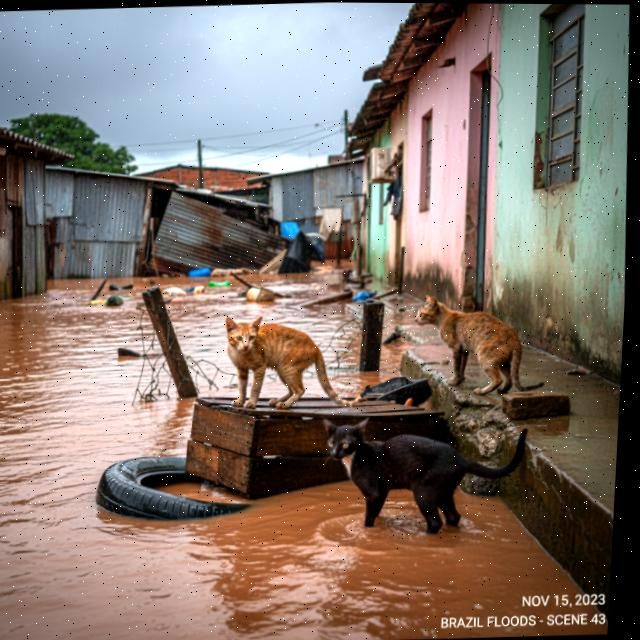cat: (312, 411, 541, 549), (406, 291, 552, 408), (215, 308, 372, 416)
